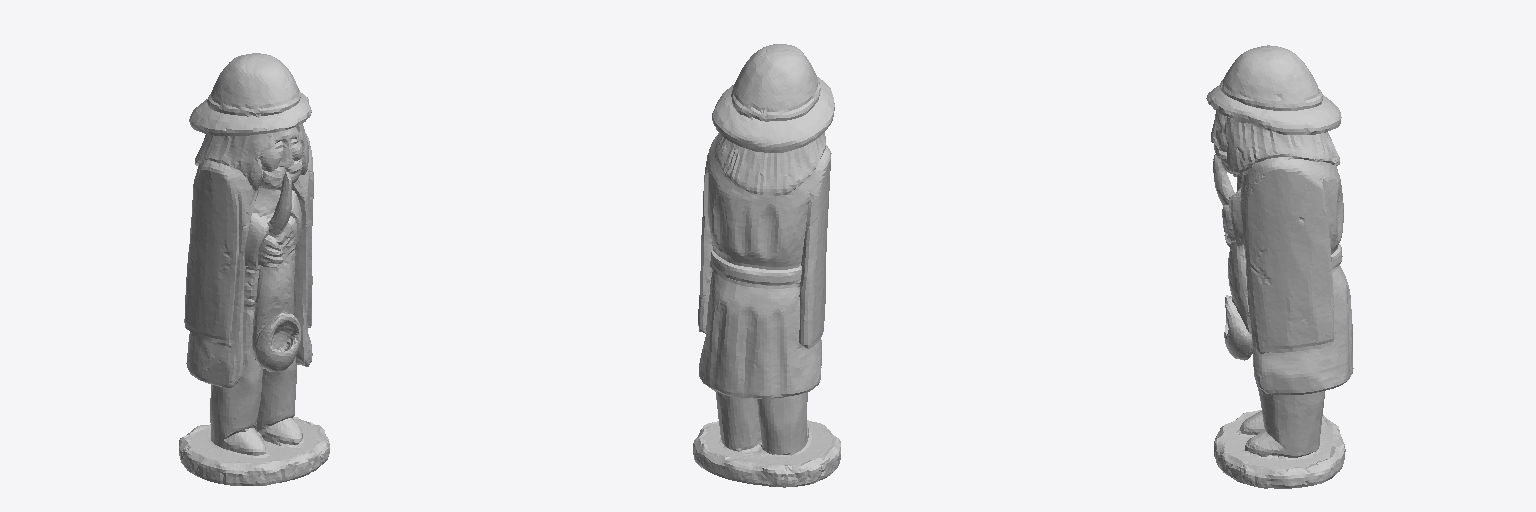
The model's file is Hojda21.obj.
The picture shows the model from 3 angles: view 1: azimuth 30°, elevation 25°; view 2: azimuth 150°, elevation 25°; view 3: azimuth 270°, elevation 25°; orthographic projection.
Parts seen in each view (by area): view 1: Hojda21_lowpoly; view 2: Hojda21_lowpoly; view 3: Hojda21_lowpoly.
Boxes of the visible parts, x1,y1,x2,y2 form: Hojda21_lowpoly: [179, 53, 329, 485]; Hojda21_lowpoly: [693, 44, 840, 487]; Hojda21_lowpoly: [1206, 45, 1353, 488].
Bounding box in the file's own units: 0.0901 × 0.2666 × 0.0874.